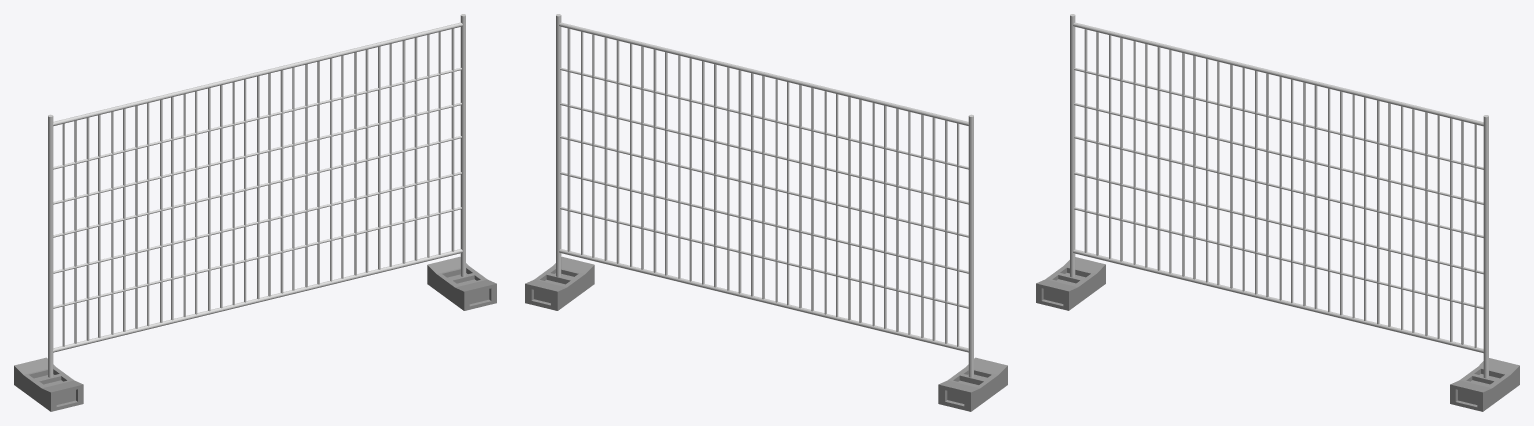
The model's file is cloturechantier.obj.
3 views of the same model, side by side, from view 1: azimuth 30°, elevation 25°; view 2: azimuth 150°, elevation 25°; view 3: azimuth 330°, elevation 25° (orthographic).
Parts seen in each view (by area): view 1: Cube.001_Cube.002; view 2: Cube.001_Cube.002; view 3: Cube.001_Cube.002.
Part boxes in pixels (x1,y1,x2,y2): Cube.001_Cube.002: (14, 14, 496, 411); Cube.001_Cube.002: (525, 14, 1007, 411); Cube.001_Cube.002: (1036, 14, 1519, 411).
Size of the model in its own units: 3.46 by 2.06 by 0.4959.
Materials: 1 (1 with a texture image).
